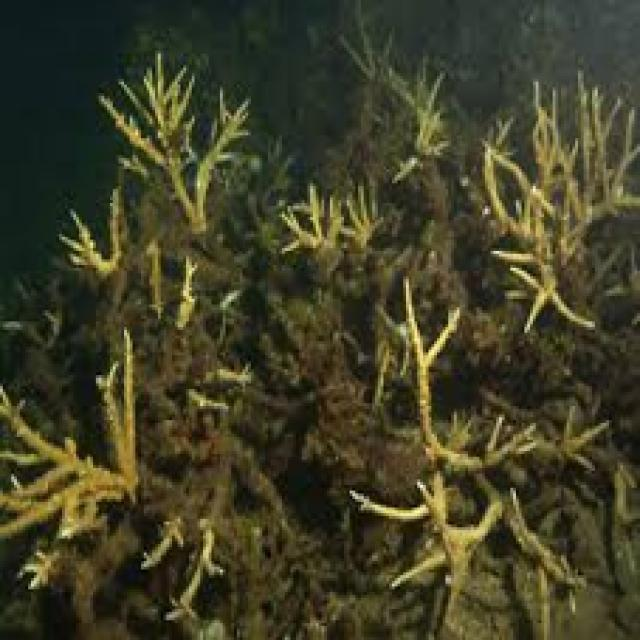Dead Coral: (329, 289, 579, 638), (0, 332, 166, 637), (448, 62, 640, 288), (99, 46, 241, 236), (136, 511, 252, 637), (46, 176, 147, 297), (261, 169, 396, 257), (382, 41, 463, 184)
